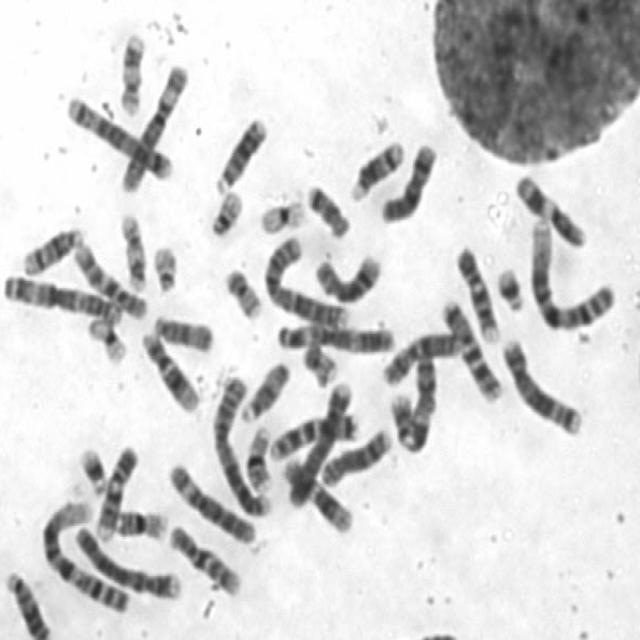A1: (37, 494, 131, 615), (526, 213, 617, 334)
A2: (209, 370, 273, 516), (260, 234, 351, 328)
A3: (0, 268, 119, 322), (272, 318, 396, 354)
B4: (284, 381, 353, 511), (70, 522, 182, 601)
B5: (64, 93, 174, 181), (499, 332, 584, 437)
C10: (70, 240, 148, 322), (165, 519, 243, 598)
C11: (511, 171, 588, 249), (387, 392, 435, 457)
C12: (280, 452, 352, 536), (138, 327, 201, 415)
C6: (116, 59, 190, 196), (166, 458, 256, 545)
C7: (438, 294, 503, 404), (266, 408, 360, 463)
C8: (317, 423, 394, 488), (310, 248, 384, 306)
C9: (453, 242, 500, 345), (91, 442, 139, 540)
D13: (211, 112, 268, 194), (2, 568, 52, 638)
D14: (346, 135, 404, 203), (17, 221, 87, 277)
D15: (238, 358, 292, 423), (150, 311, 215, 354)
E16: (241, 423, 273, 492), (113, 505, 170, 543)
E17: (115, 29, 146, 118), (118, 208, 148, 294)
E18: (303, 180, 352, 240), (416, 355, 437, 413)
F19: (85, 312, 129, 366), (255, 195, 308, 238)
F20: (222, 263, 264, 321), (302, 341, 339, 385)
G21: (74, 442, 108, 497), (494, 262, 525, 313)
G22: (208, 186, 244, 236), (150, 239, 180, 295)
X: (376, 138, 438, 224), (378, 328, 466, 388)
